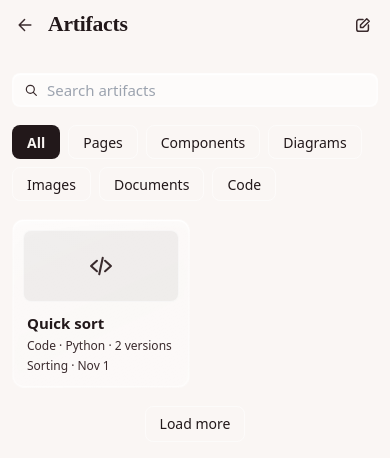
<ArtifactsGallery /> › Load more asks for the next page with the cursor
This screenshot has width=390, height=458.
Click the button "Load more": [195, 424] box x1=145 y1=406 x2=246 y2=442
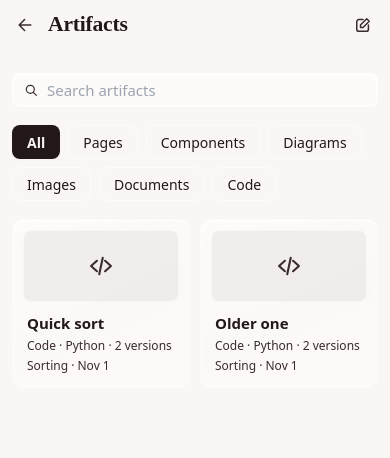
Result: the button "Older one Code · Python · 2 versions Sorting · Nov 1" is shown at x1=200 y1=219 x2=378 y2=388
Result: the button "Load more" is gone
